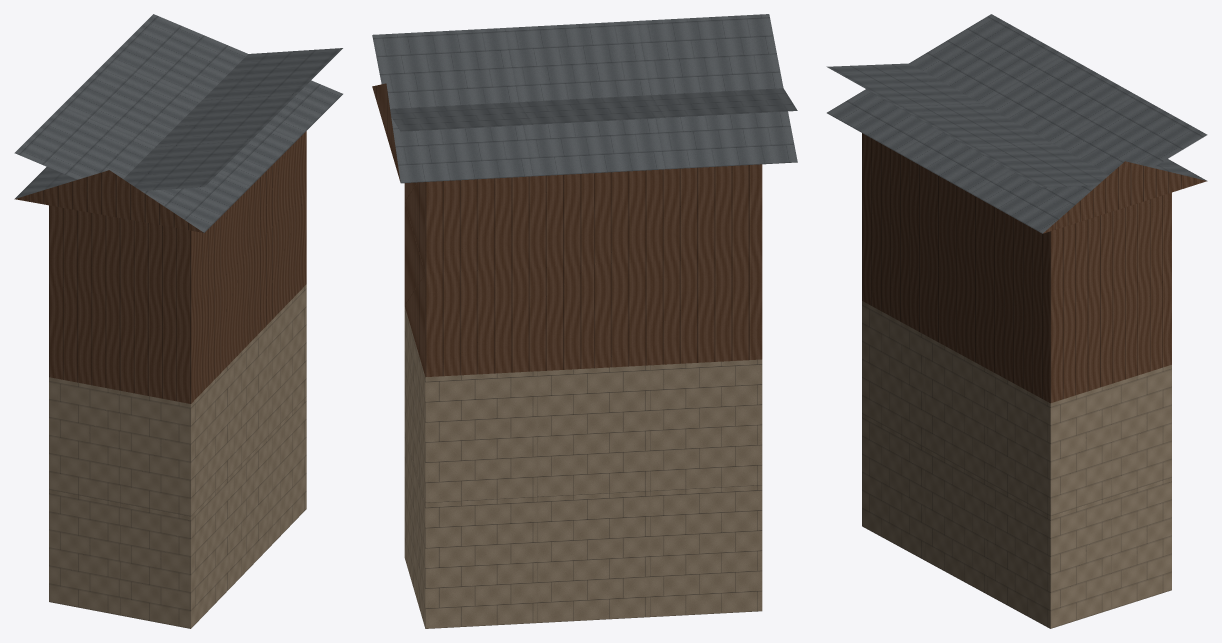
The model's file is bld_c13_7_548.gltf.
3 views of the same model, side by side, from view 1: azimuth 30°, elevation 25°; view 2: azimuth 150°, elevation 25°; view 3: azimuth 270°, elevation 25° (orthographic). The views are drawn at different scales.
Visible parts, largest first — view 1: bld_c13_7_548; view 2: bld_c13_7_548; view 3: bld_c13_7_548.
Boxes of the visible parts, bbox=[...] form: bld_c13_7_548: bbox=[14, 14, 342, 628]; bld_c13_7_548: bbox=[372, 14, 797, 628]; bld_c13_7_548: bbox=[826, 14, 1207, 628].
Bounding box in the file's own units: 8.06 × 9.9 × 7.48.
4 materials, 4 textured.
